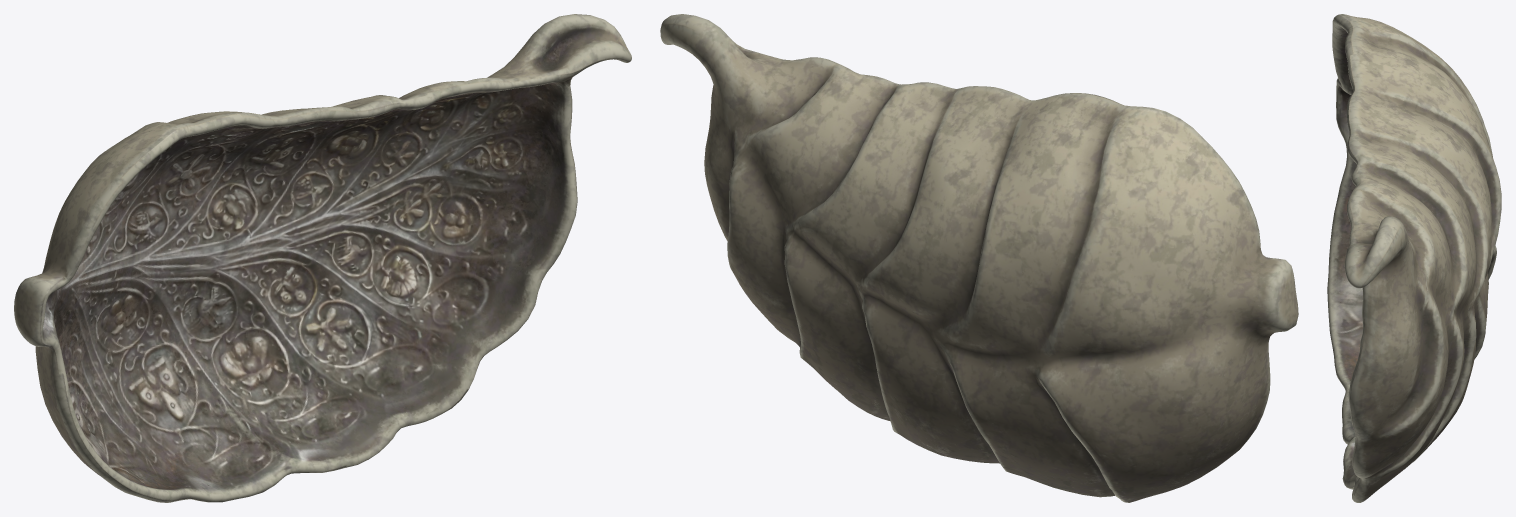
Rendered from SilverPlate.glb.
The picture shows the model from 3 angles, left to right: view 1: azimuth 30°, elevation 25°; view 2: azimuth 150°, elevation 25°; view 3: azimuth 270°, elevation 25°; orthographic projection. The views are drawn at different scales.
Parts seen in each view (by area): view 1: Group58358; view 2: Group58358; view 3: Group58358.
Boxes of the visible parts, bbox=[...] form: Group58358: bbox=[14, 14, 631, 502]; Group58358: bbox=[660, 14, 1298, 502]; Group58358: bbox=[1327, 14, 1501, 502].
Size of the model in its own units: 293 by 177 by 73.28.
1 material, 1 textured.
